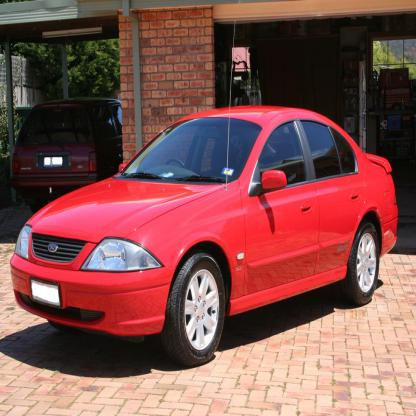Car: (10, 21, 398, 367), (12, 96, 123, 212)
